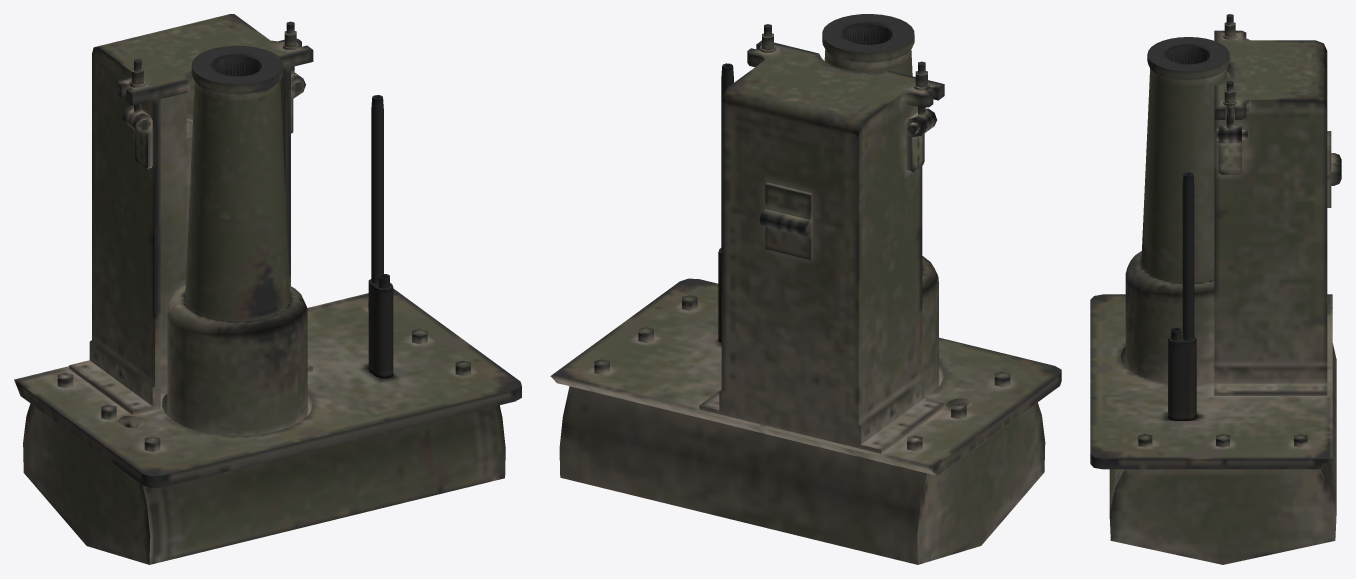
The model's file is Gun_01.glb.
3 views of the same model, side by side, from view 1: azimuth 30°, elevation 25°; view 2: azimuth 150°, elevation 25°; view 3: azimuth 270°, elevation 25° (orthographic). The views are drawn at different scales.
Visible parts, largest first — view 1: set_0_group_0; view 2: set_0_group_0; view 3: set_0_group_0.
Part boxes in pixels (bbox=[...]): set_0_group_0: bbox=[14, 14, 521, 564]; set_0_group_0: bbox=[550, 14, 1061, 564]; set_0_group_0: bbox=[1090, 14, 1341, 564].
Size of the model in its own units: 0.675 by 0.8002 by 0.4354.
1 material, 1 textured.
